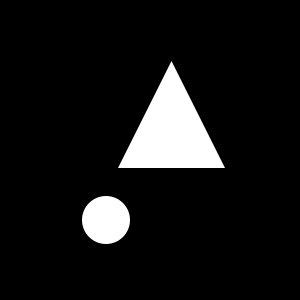rectangle: (82, 196, 130, 244)
triangle: (118, 61, 225, 168)
